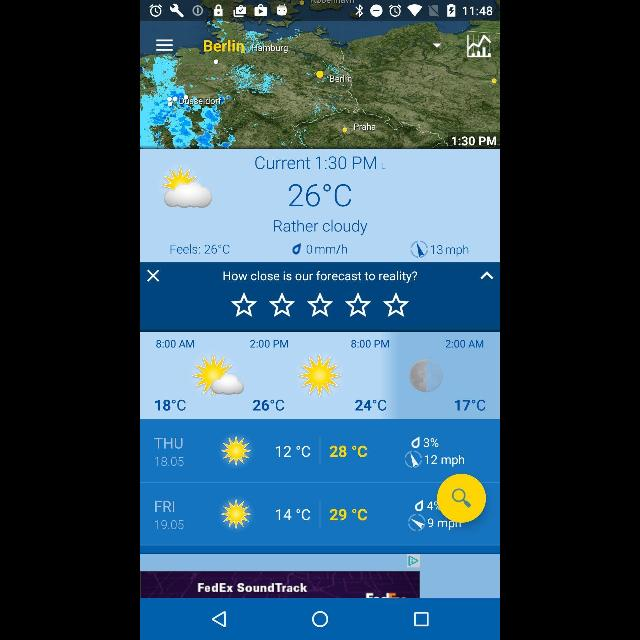button: (437, 474, 487, 524)
icon: (307, 292, 333, 318), (383, 292, 409, 318), (231, 293, 257, 317), (346, 292, 370, 318), (270, 292, 294, 316), (312, 611, 328, 627), (212, 611, 226, 627), (414, 612, 428, 626), (147, 270, 159, 282), (481, 272, 494, 280)
iframe: (140, 572, 420, 598)
image: (192, 355, 244, 397), (162, 166, 212, 208), (299, 354, 341, 396), (220, 434, 252, 468), (410, 359, 442, 391), (220, 498, 252, 530)
map: (140, 22, 500, 148)
panel: (140, 598, 500, 640)
text: (224, 271, 416, 283), (256, 156, 386, 170), (288, 184, 352, 206), (274, 220, 368, 234), (170, 243, 230, 254), (330, 508, 368, 522), (424, 454, 466, 466), (330, 446, 368, 458), (156, 338, 196, 349), (306, 244, 348, 254), (276, 446, 310, 458), (276, 509, 310, 521), (445, 339, 485, 349), (154, 399, 186, 411), (252, 399, 284, 411), (355, 399, 387, 411), (432, 246, 468, 256), (455, 399, 485, 411), (154, 438, 183, 450), (351, 339, 389, 348), (154, 457, 183, 468), (250, 340, 288, 348), (154, 520, 184, 530), (155, 501, 175, 513), (428, 518, 448, 528), (423, 438, 439, 448), (426, 502, 436, 511)
uppertaskbar: (140, 1, 500, 21)
